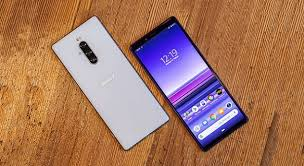sony: (49, 14, 169, 153)
